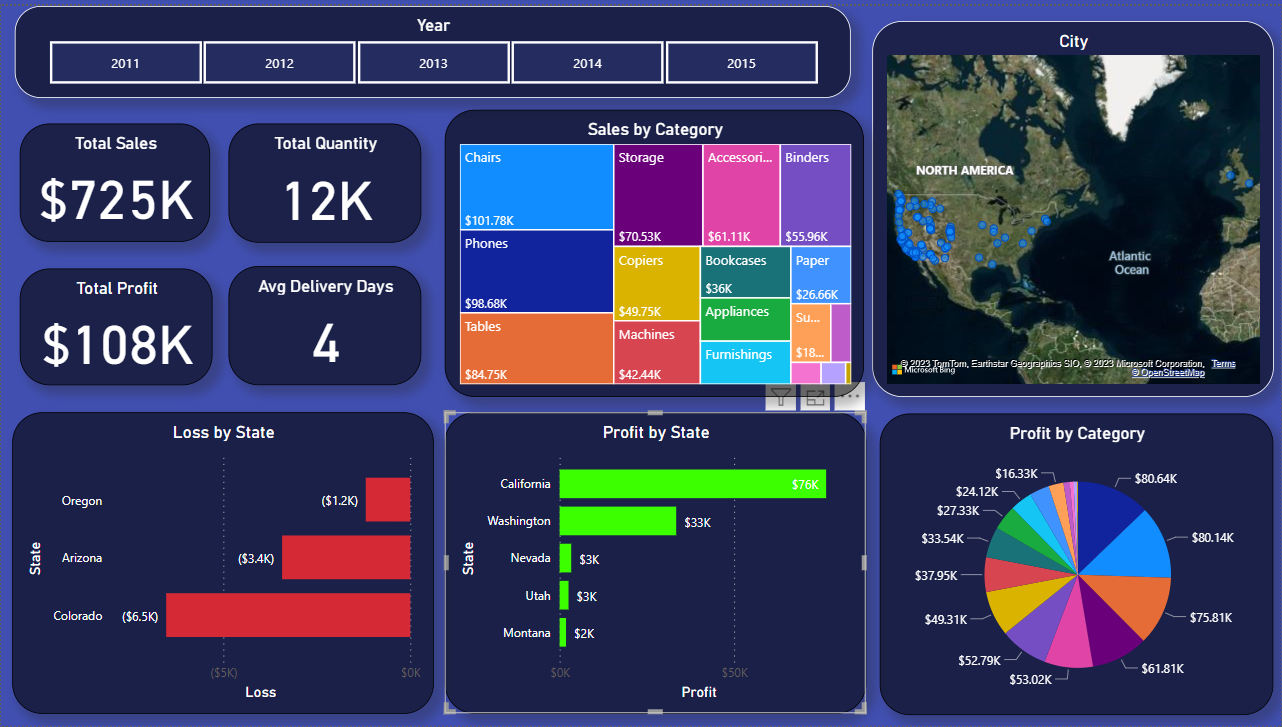

What the dashboard file says about the page in this screenshot:
{"tool":"powerbi","page":{"name":"Page 1","canvas":[1280,720],"ordinal":0},"visuals":[{"type":"map","fields":{"Category":["Walmart.City"]},"box":[879.2,15.4,401.1,375.8],"z":0},{"type":"slicer","title":"Year","fields":{"Values":["Walmart.Year"]},"box":[14.3,0,835.6,91.8],"z":1000},{"type":"barChart","title":"Profit by State","fields":{"Category":["Walmart.State"],"Y":["Sum(Walmart.Profit)"]},"box":[443.1,408.1,420.7,300.1],"z":2000},{"type":"card","title":"Total Profit","fields":{"Values":["Sum(Walmart.Profit)"]},"box":[19.1,262.2,193.1,116.8],"z":3000},{"type":"card","title":"Total Quantity","fields":{"Values":["Sum(Walmart.Quantity)"]},"box":[227.7,118,193.1,119.2],"z":4000},{"type":"card","title":"Total Sales","fields":{"Values":["Sum(Walmart.Sales)"]},"box":[19.1,118,190.7,118],"z":5000},{"type":"pieChart","title":"Profit by Category","fields":{"Category":["Walmart.Category"],"Y":["Sum(Walmart.Sales)"]},"box":[886.2,408.1,394,300.1],"z":6000},{"type":"barChart","title":"Loss by State","fields":{"Category":["Walmart.State"],"Y":["Sum(Walmart.Profit)"]},"box":[0,408.1,420.7,300.1],"z":7000},{"type":"treemap","title":"Sales by Category","fields":{"Group":["Walmart.Category"],"Values":["Sum(Walmart.Sales)"]},"box":[443.4,103.7,419.6,287.3],"z":8000},{"type":"card","title":"Avg Delivery Days","fields":{"Values":["Avg(Walmart.Delivery Date)"]},"box":[227.7,259.9,193.1,119.2],"z":9000}]}

Visuals, with their boxes in screenshot pixels (x1, y1, x2, y2), scaled from the page's 1280x720 canvas onto the 1282x727 screenshot:
map - Walmart.City: bbox=(881, 16, 1281, 395)
"Year" slicer: bbox=(14, 0, 851, 93)
"Profit by State" barChart: bbox=(444, 412, 865, 715)
"Total Profit" card: bbox=(19, 265, 213, 383)
"Total Quantity" card: bbox=(228, 119, 421, 240)
"Total Sales" card: bbox=(19, 119, 210, 238)
"Profit by Category" pieChart: bbox=(888, 412, 1281, 715)
"Loss by State" barChart: bbox=(0, 412, 421, 715)
"Sales by Category" treemap: bbox=(444, 105, 864, 395)
"Avg Delivery Days" card: bbox=(228, 262, 421, 383)
